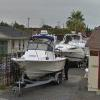Boat: (10, 25, 88, 84)
